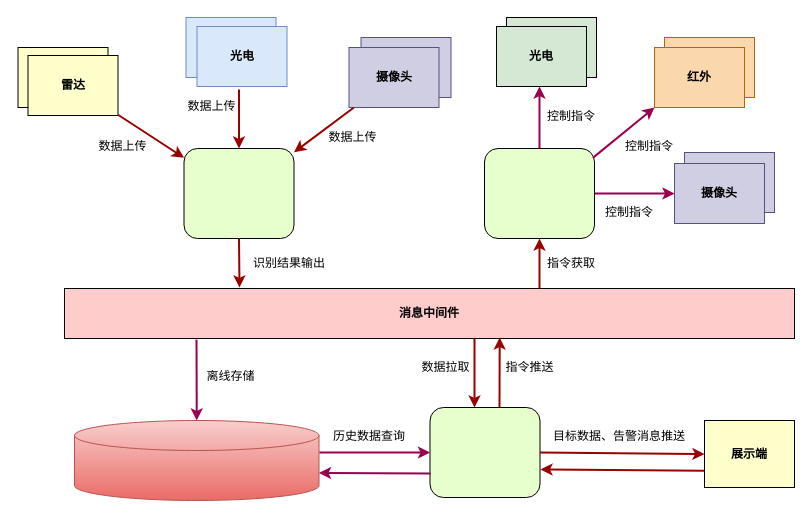
This 812x518 diagram has some shape labels left out. Here are the shapes that lost their labels. From the top down, the box of each, then its label:
(183, 148, 294, 238): 智能融合识别引擎 多数据源融合 目标行为识别 目标类型识别
(484, 148, 594, 238): 设备引导服务 设备指令发送 多用户协调
(74, 420, 319, 500): 数据仓库
(429, 406, 540, 498): 后台服务 目标数据接入 消息推送
